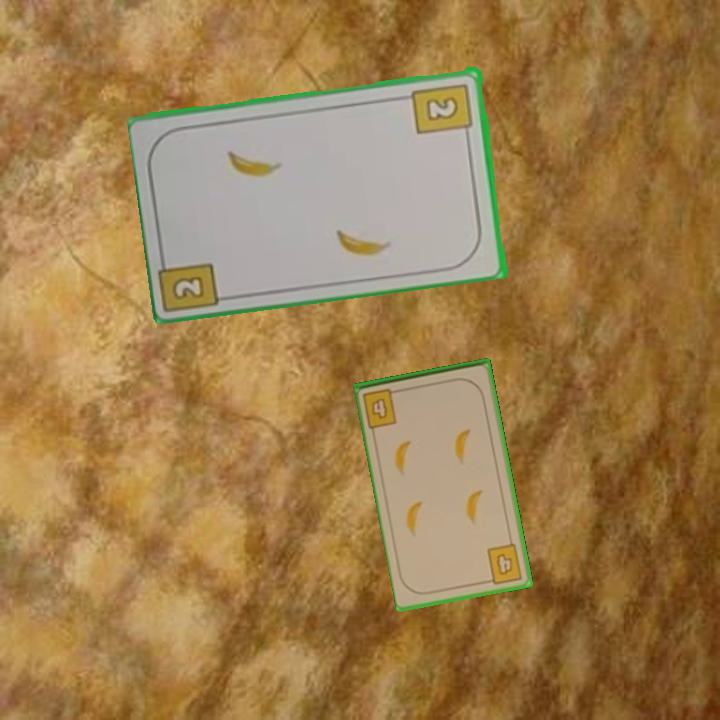2b: (409, 79, 476, 140), (168, 272, 208, 303)
4b: (359, 385, 404, 431), (483, 540, 525, 587)
